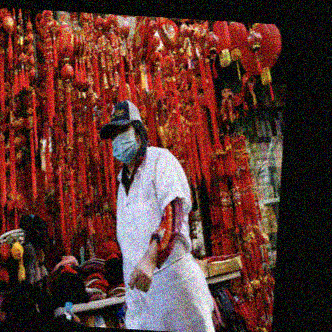with_mask: (179, 127, 223, 169)
